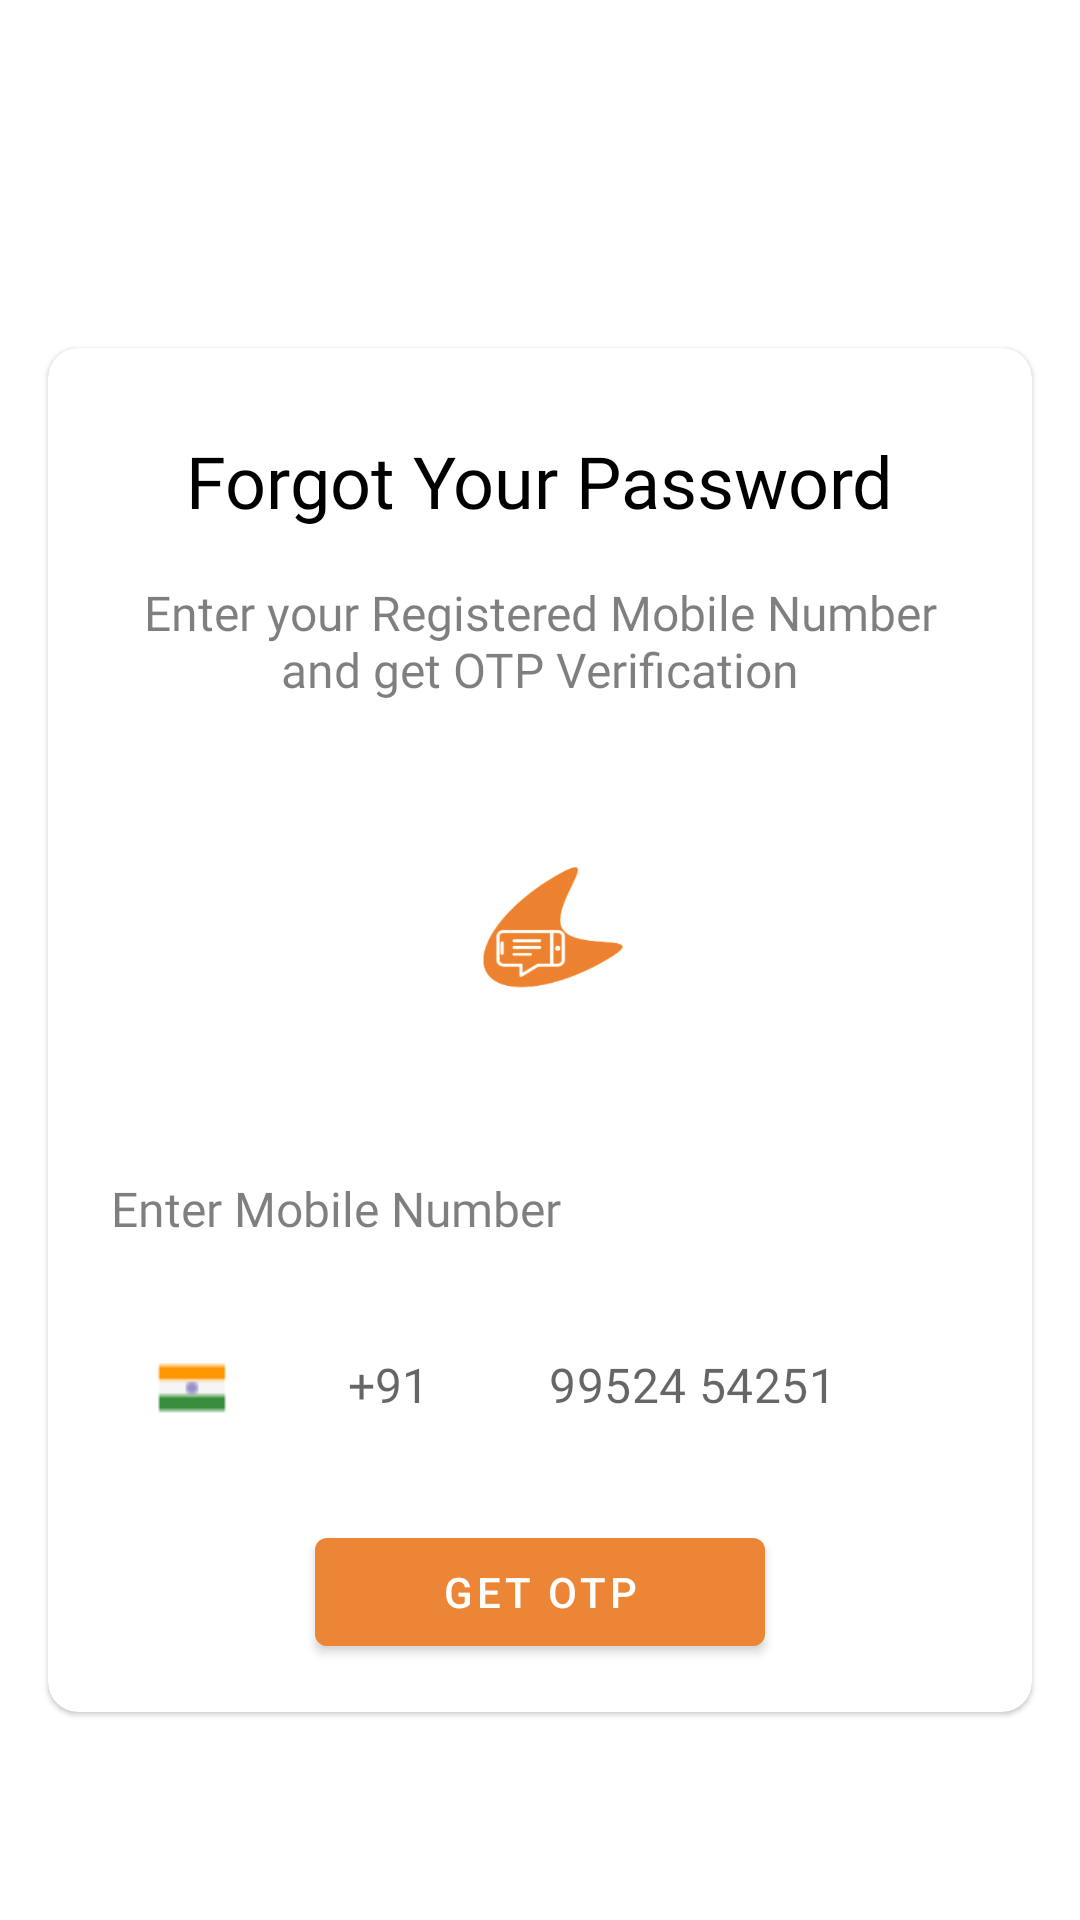

Named icons in this screenshot (1080px×1920px) and their centers, point (x, y):
Country Flag: point (192, 1388)
